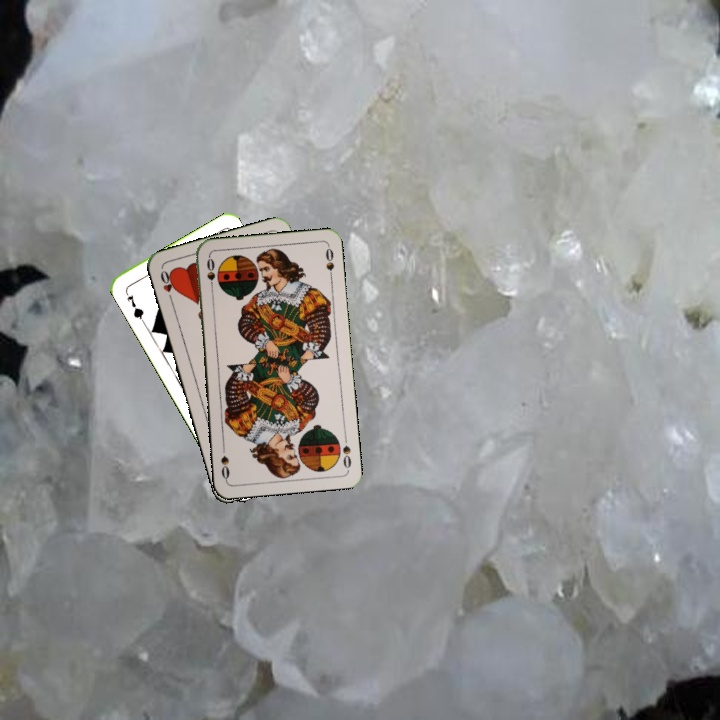G7: (123, 291, 147, 324)
HO: (156, 266, 178, 305)
SO: (338, 431, 354, 471), (203, 254, 217, 294)
